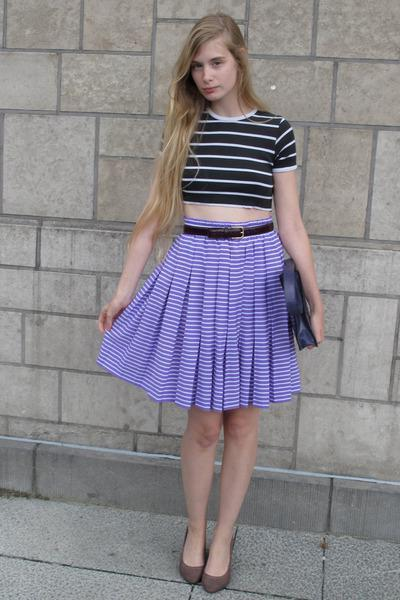short sleeve shirt: (156, 107, 298, 208)
skirt: (95, 216, 304, 411)
